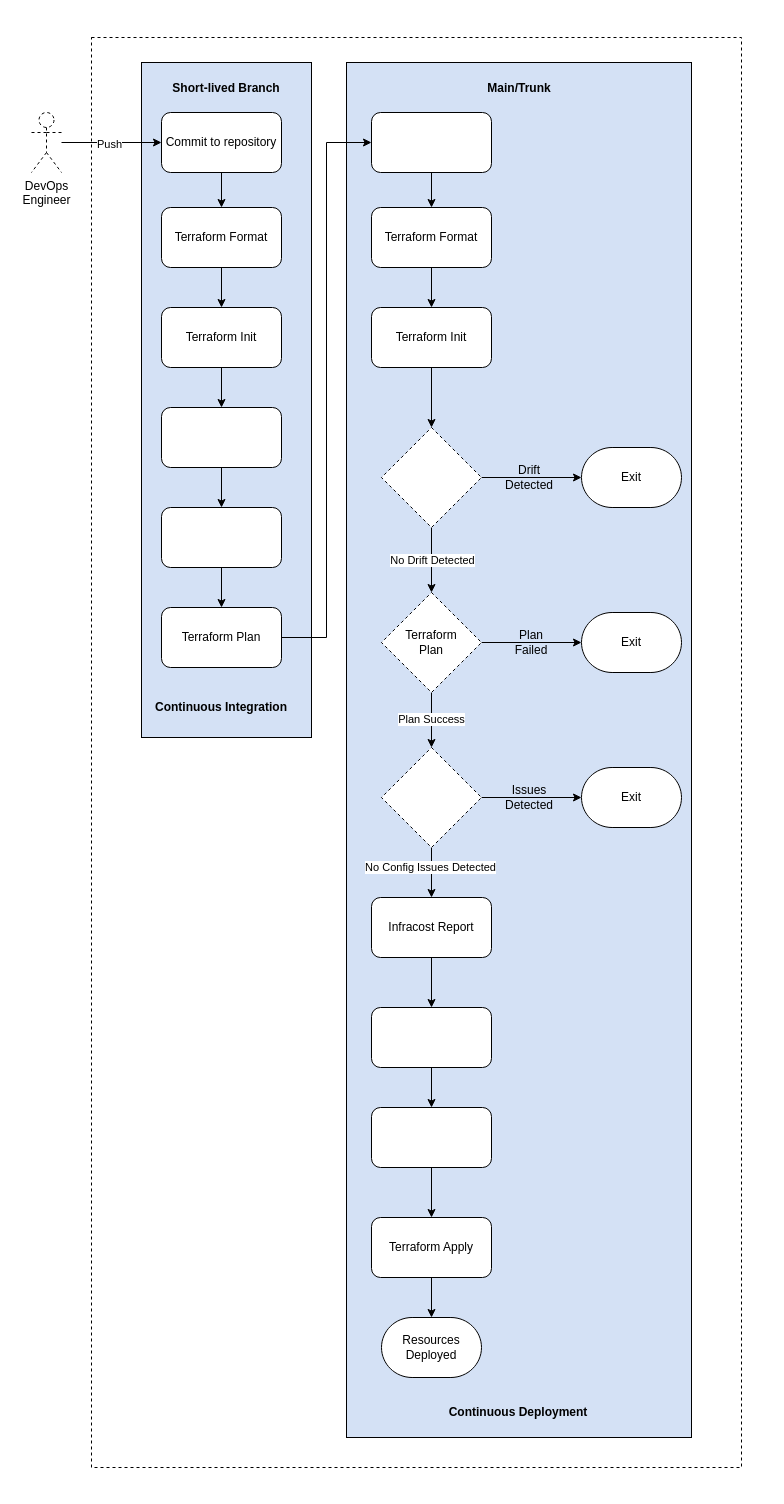
This 784x1504 diagram has some shape labels left out. The shapes that lost their labels are listed below. From the top down, each one's centre as x and y in pixels, then its label:
At pixel 431 142: "Create PR".
At pixel 221 437: "tfsec".
At pixel 431 477: "dritctl Scan".
At pixel 221 537: "driftctl".
At pixel 431 797: "tfsec Scan".
At pixel 431 1037: "PR Approved".
At pixel 431 1137: "PR Merged".
